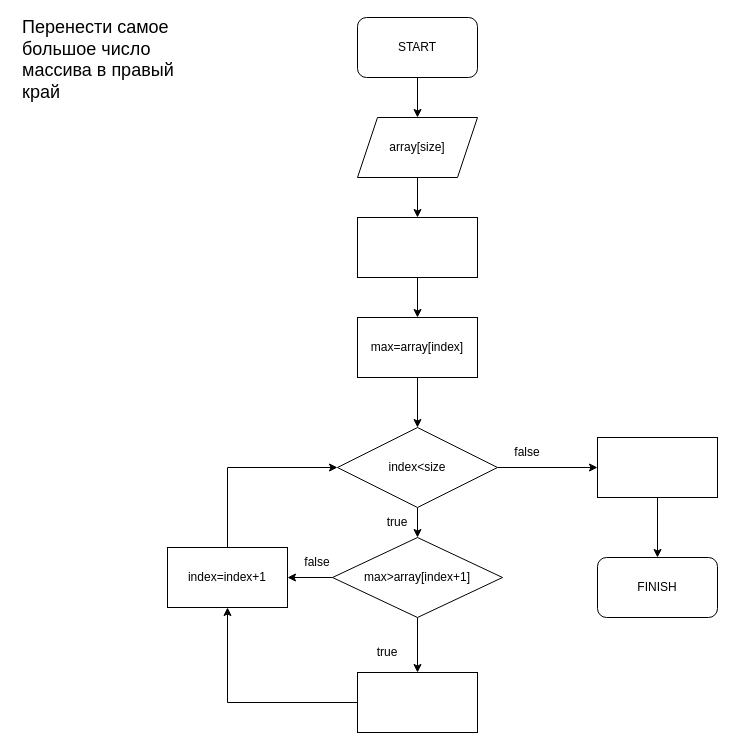
Image size: 735x750. Some labels were removed from this diagram. The shapes that lost their labels are listed below. From the top down, each one's centre as x and y in pixels, then its label:
(x=417, y=247): index=0
(x=657, y=467): array[index]=max
(x=417, y=702): max=array[index+1]
